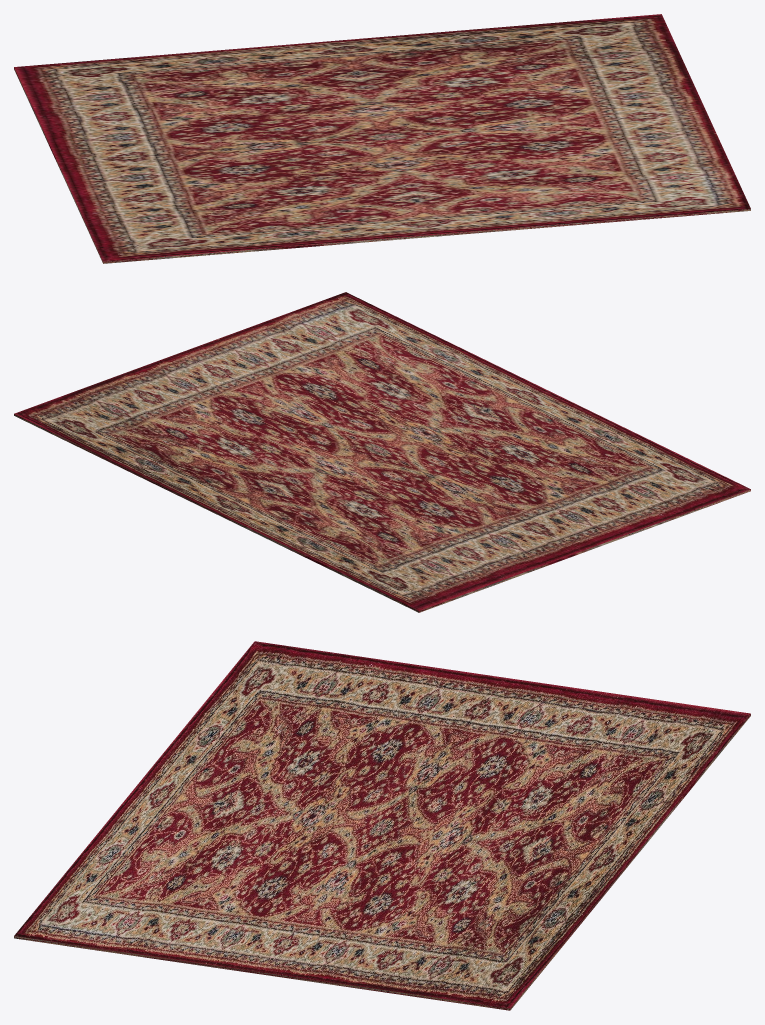
The model's file is ковёр.fbx.
3 views of the same model, one above another, from view 1: azimuth 30°, elevation 25°; view 2: azimuth 150°, elevation 25°; view 3: azimuth 270°, elevation 25° (orthographic). The views are drawn at different scales.
Parts seen in each view (by area): view 1: Cube.040; view 2: Cube.040; view 3: Cube.040.
Part boxes in pixels (bbox=[...]): Cube.040: bbox=[14, 14, 750, 263]; Cube.040: bbox=[14, 292, 750, 612]; Cube.040: bbox=[14, 641, 750, 1010].
Size of the model in its own units: 34.42 by 40.58 by 0.1212.
